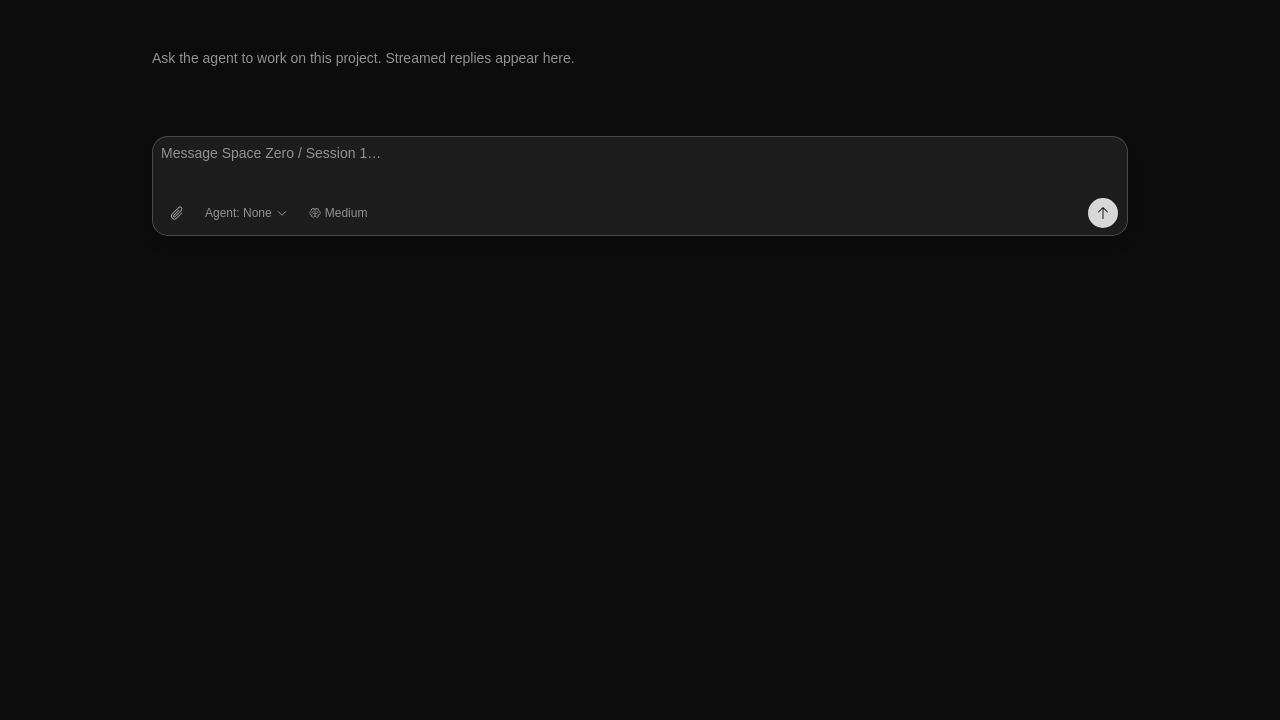
Test: ProjectSessionHostSurface › lists Agent Definitions in a fresh session picker
This screenshot has width=1280, height=720.
Click the button with aria-label "Agent Definition: None".
click(246, 213)  # box [197, 201, 296, 225]
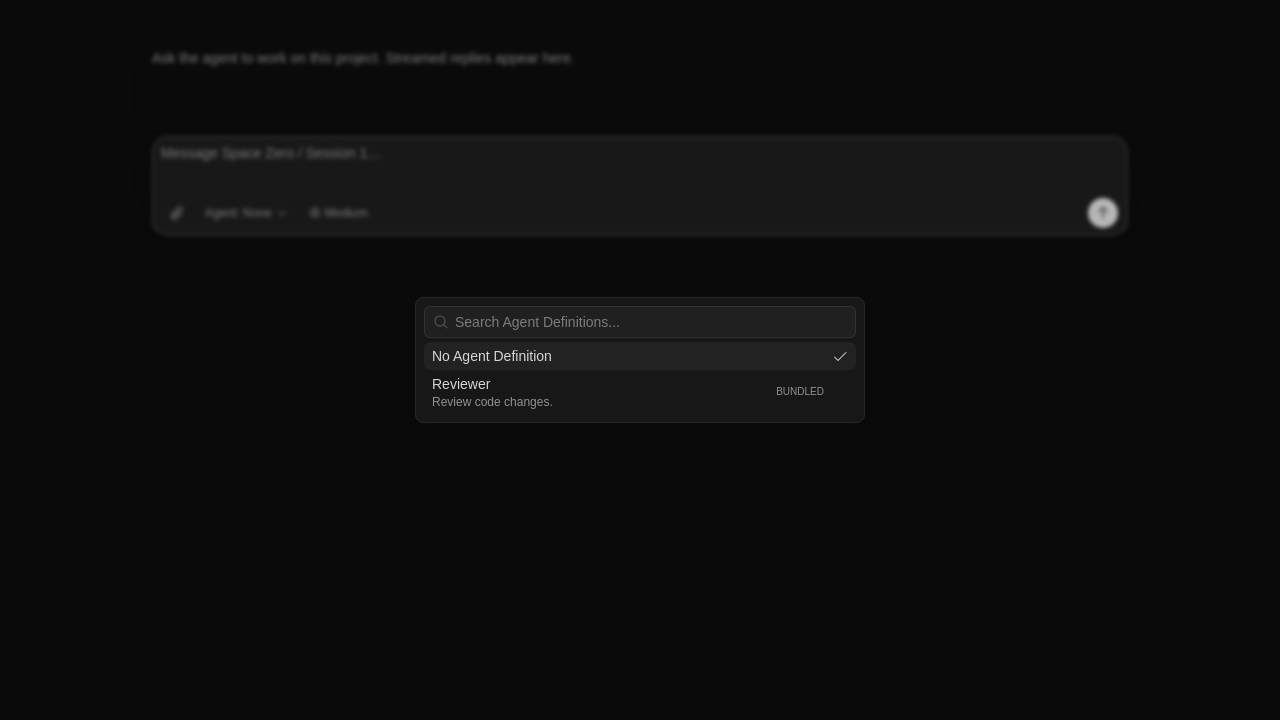
Result: the option "Reviewer Review code changes. bundled" is shown at [424, 370, 856, 414]
Result: the text "Review code changes." is shown at [432, 395, 553, 409]
